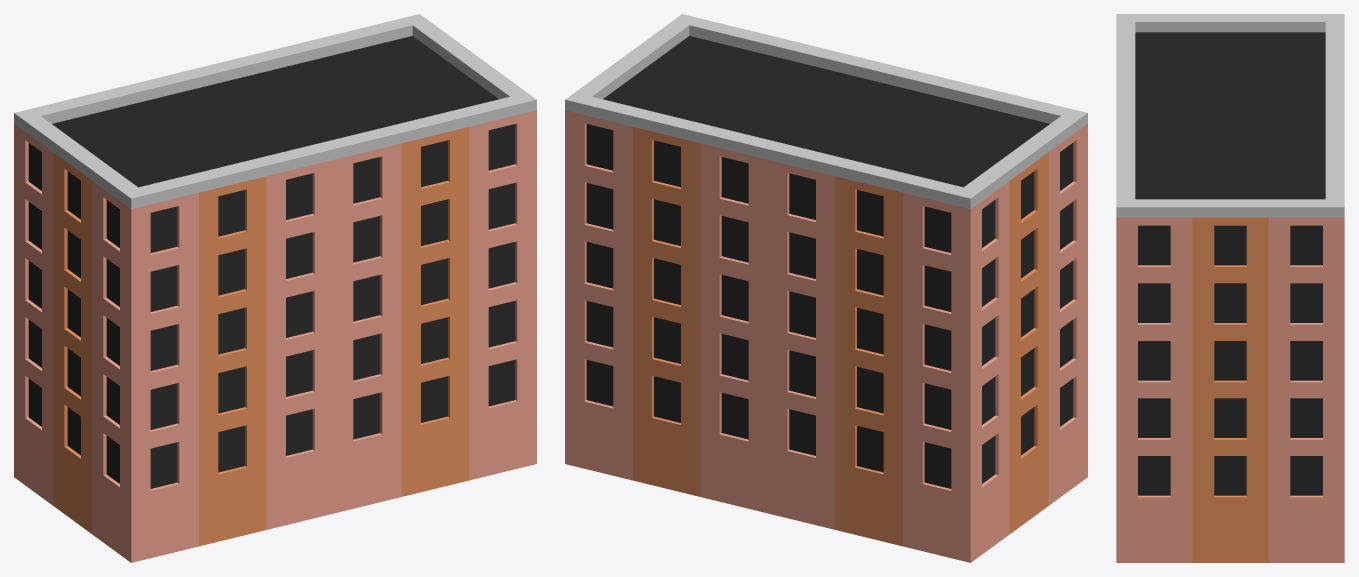
Rendered from Building4.glb.
3 renders of one model, left to right at view 1: azimuth 30°, elevation 25°; view 2: azimuth 150°, elevation 25°; view 3: azimuth 270°, elevation 25°, orthographic. The views are drawn at different scales.
Visible parts, largest first — view 1: Building4; view 2: Building4; view 3: Building4.
Boxes of the visible parts, x1,y1,x2,y2 form: Building4: (14, 14, 536, 562); Building4: (565, 14, 1087, 562); Building4: (1116, 14, 1344, 562).
Bounding box in the file's own units: 12 × 10.3 × 6.
1 material, 1 textured.
